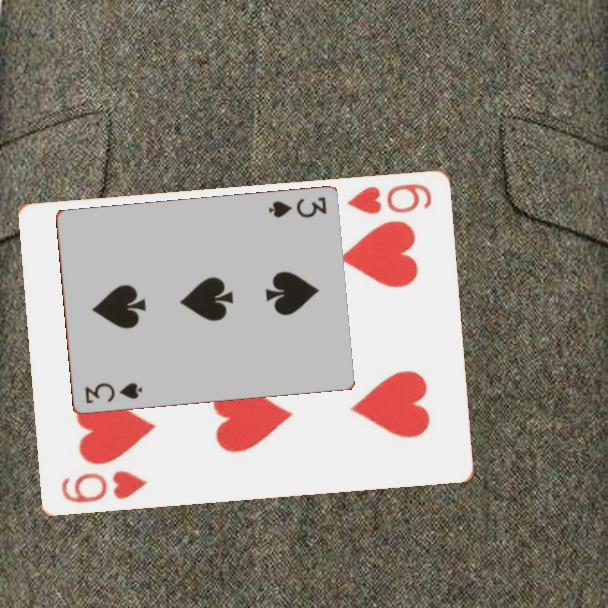h06: (57, 467, 150, 507), (343, 180, 434, 218)
s03: (265, 193, 329, 221), (81, 380, 145, 407)
